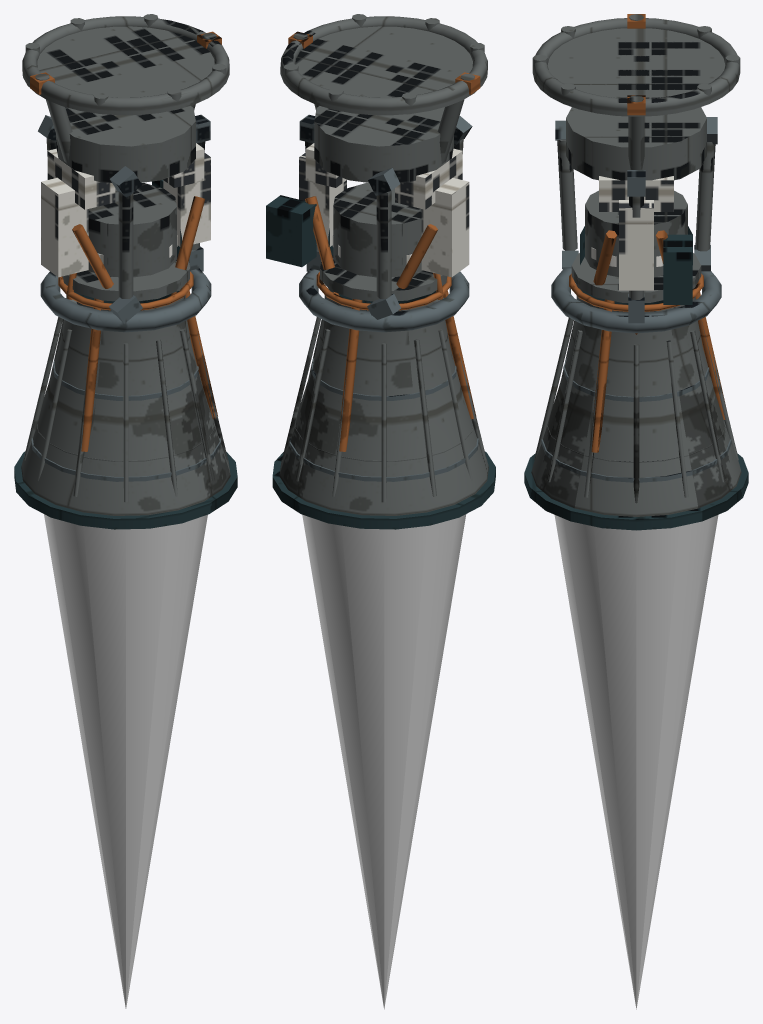
File: drive_main.glb
The picture shows the model from 3 angles, left to right: view 1: azimuth 30°, elevation 25°; view 2: azimuth 150°, elevation 25°; view 3: azimuth 270°, elevation 25°; orthographic projection.
Visible parts, largest first — view 1: merged-646a6c, flame, merged-ededea, merged-5d6a72, merged-a56233, merged-263c43; view 2: merged-646a6c, flame, merged-5d6a72, merged-ededea, merged-263c43, merged-a56233; view 3: merged-646a6c, flame, merged-5d6a72, merged-263c43, merged-ededea, merged-a56233.
Boxes of the visible parts, x1,y1,x2,y2 form: merged-646a6c: (21, 14, 230, 515); flame: (44, 514, 207, 1008); merged-ededea: (41, 143, 210, 277); merged-5d6a72: (31, 114, 220, 481); merged-a56233: (30, 31, 221, 451); merged-263c43: (14, 180, 237, 529); merged-646a6c: (279, 14, 488, 515); flame: (302, 514, 466, 1009); merged-5d6a72: (289, 114, 478, 481); merged-ededea: (299, 143, 469, 277); merged-263c43: (266, 195, 495, 529); merged-a56233: (288, 31, 480, 451); merged-646a6c: (531, 14, 741, 516); flame: (554, 515, 718, 1009); merged-5d6a72: (541, 117, 731, 482); merged-263c43: (524, 226, 748, 530); merged-ededea: (599, 176, 673, 290); merged-a56233: (569, 14, 725, 452).
Size of the model in its own units: 2.7 by 12.65 by 2.7.
7 materials, 6 textured.
